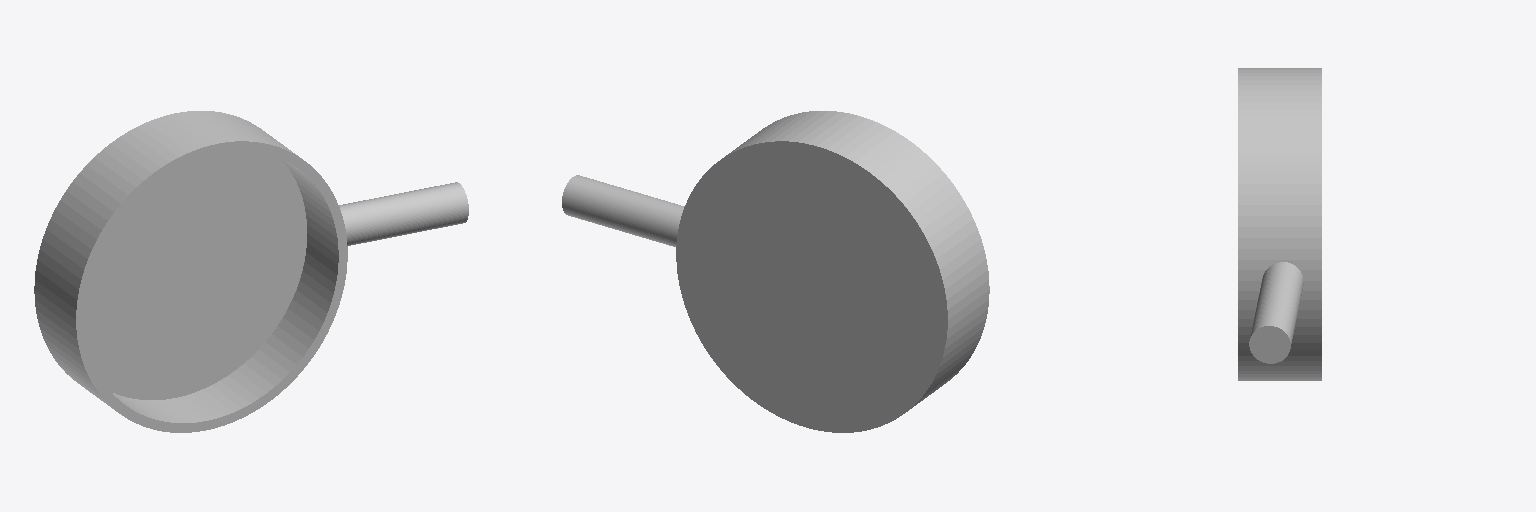
Rendered from pan_rs_gb.obj.
The picture shows the model from 3 angles: view 1: azimuth 30°, elevation 25°; view 2: azimuth 150°, elevation 25°; view 3: azimuth 270°, elevation 25°; orthographic projection.
Parts seen in each view (by area): view 1: ____01, ____02; view 2: ____01, ____02; view 3: ____01, ____02.
Part boxes in pixels (left/top/right/bottom): ____01: left=34, top=111, right=347, bottom=432; ____02: left=339, top=182, right=468, bottom=245; ____01: left=676, top=111, right=989, bottom=432; ____02: left=562, top=175, right=684, bottom=246; ____01: left=1238, top=68, right=1321, bottom=380; ____02: left=1249, top=262, right=1303, bottom=363.
Bounding box in the file's own units: 0.4435 × 0.2998 × 0.08.